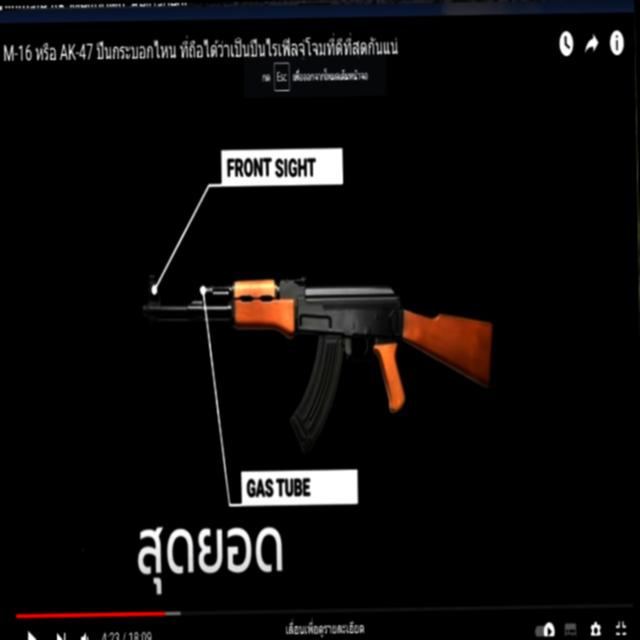ak: (140, 262, 496, 463)
